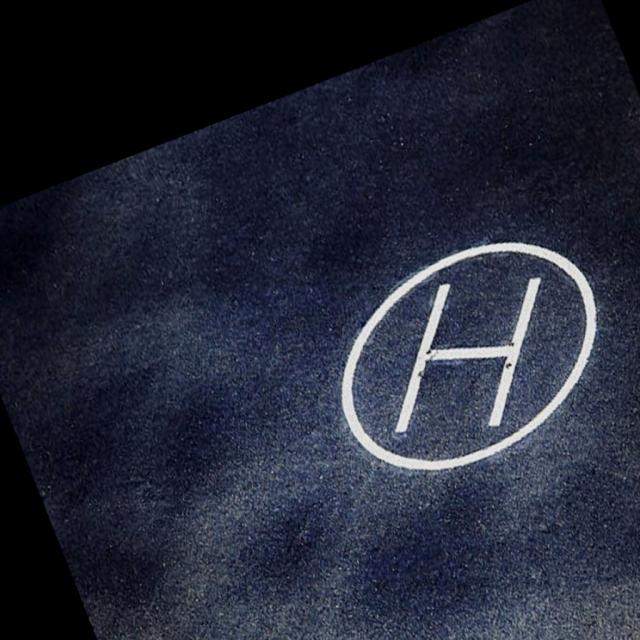helipad: (334, 236, 602, 474)
